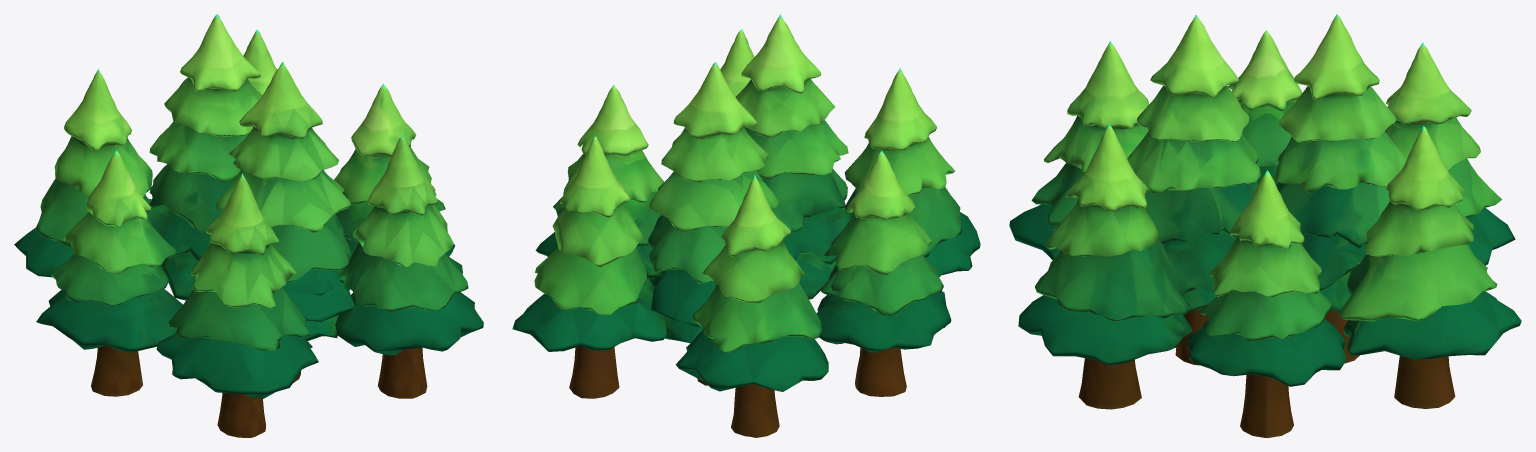
Rendered from pine_forest.glb.
The picture shows the model from 3 angles, left to right: view 1: azimuth 30°, elevation 25°; view 2: azimuth 150°, elevation 25°; view 3: azimuth 270°, elevation 25°; orthographic projection. The views are drawn at different scales.
Bounding box in the file's own units: 1.89 × 1.45 × 1.96.
Materials: 1 (1 with a texture image).
